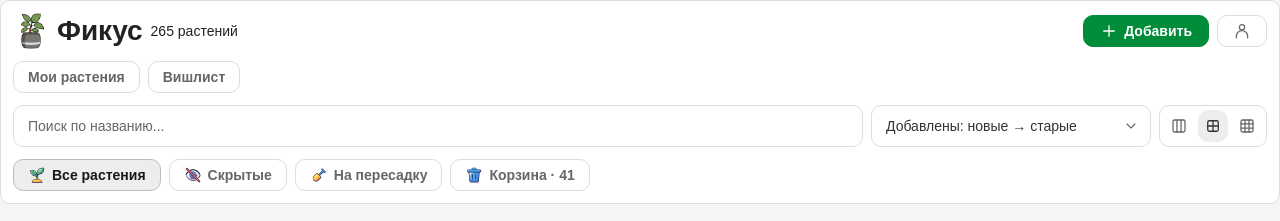
Test case: updates and clears search and changes sorting
Later steps or results of the test are not shown.
Type "Фикус" into the search field. click: (438, 126)
box: [13,105,863,147]
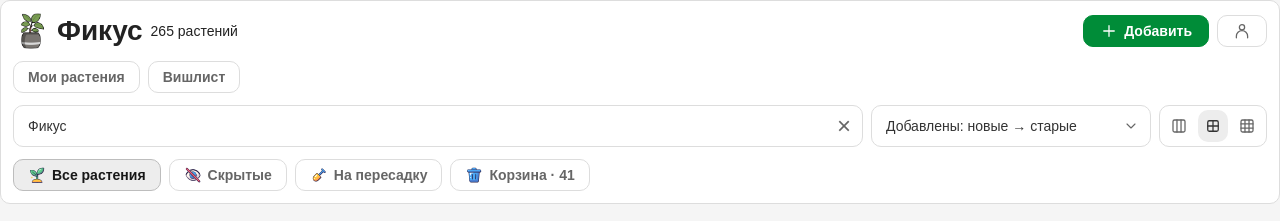
Click the button named "Очистить поиск". click: (844, 126)
box: [829,110,859,142]
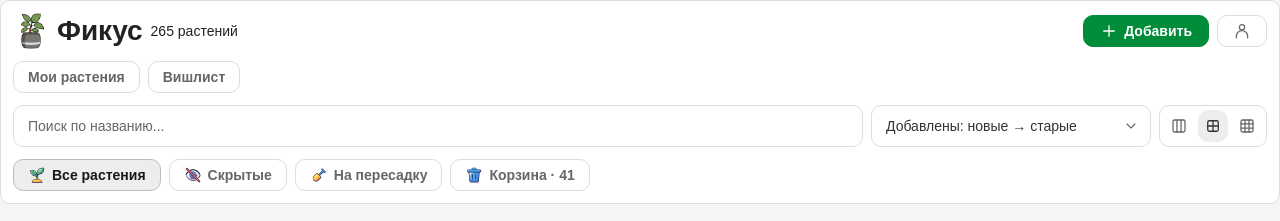
Expected: the search field is empty, [13,105,863,147]
